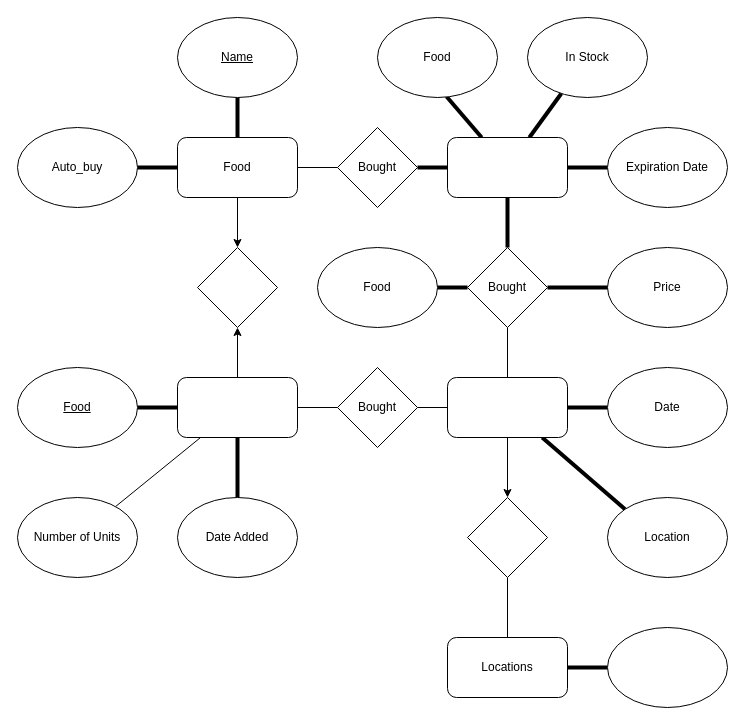
Image size: 745x725. Some labels were removed from this diagram. The centre of each missing label's shape, as x and y in pixels:
"Came from" belongs at point (507, 537).
"Inventory" belongs at point (507, 167).
"Needs" belongs at point (237, 287).
"Place" belongs at point (667, 667).
"Shopping List" belongs at point (237, 407).
"Shopping Trip" belongs at point (507, 407).
